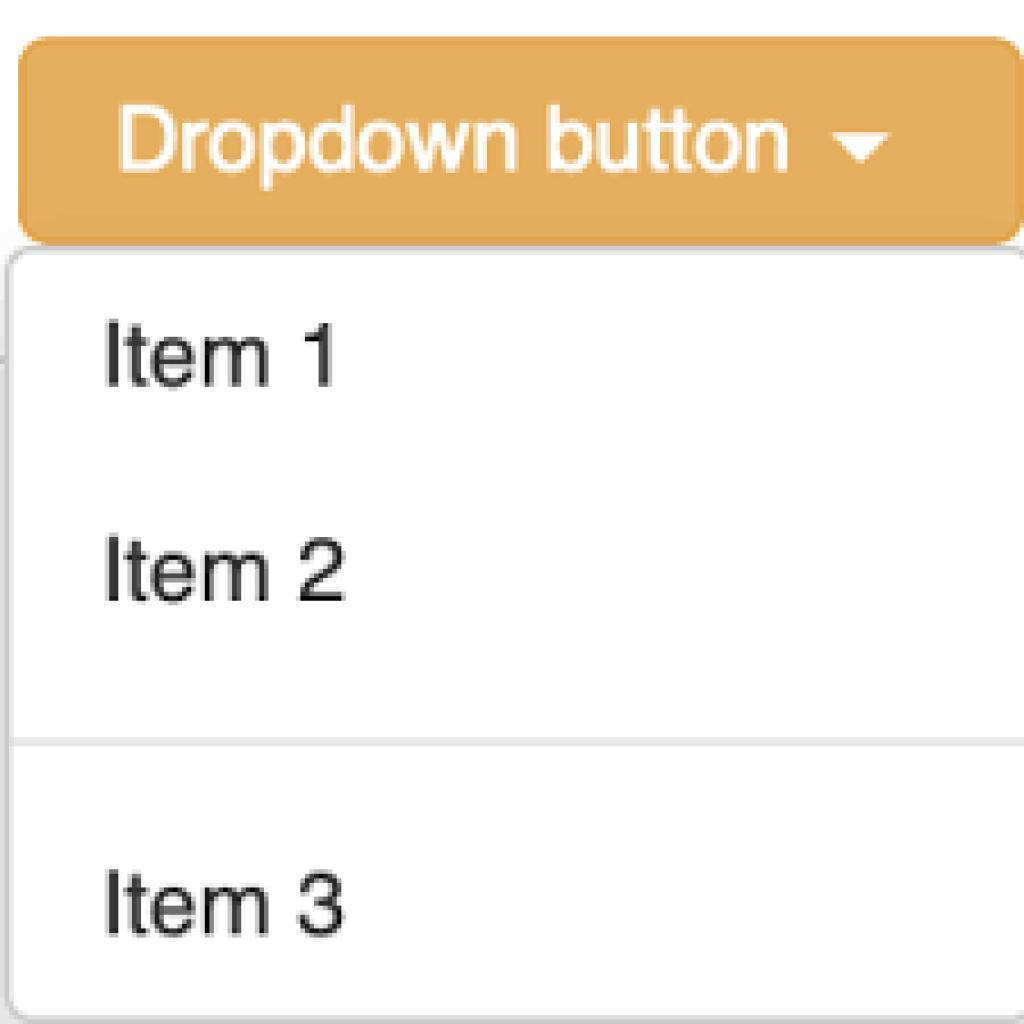dropdown: (18, 37, 1024, 245)
